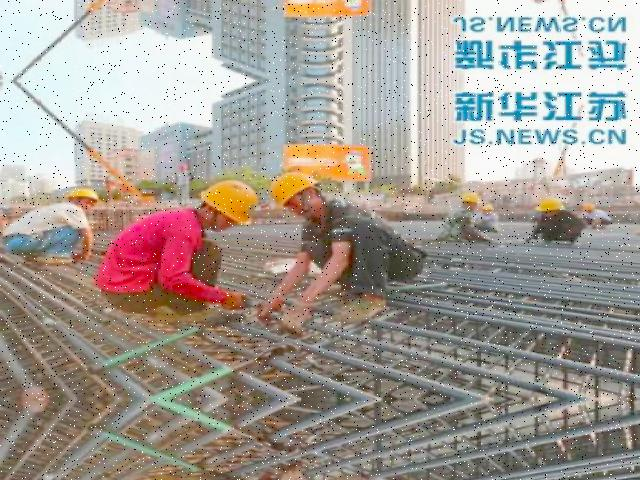Helmet: (192, 176, 263, 234), (264, 167, 324, 213), (60, 183, 100, 208)
